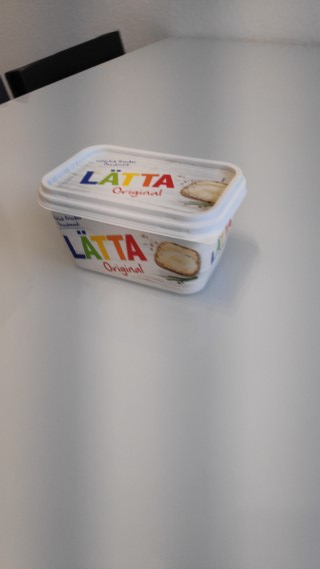laetta: (36, 143, 249, 297)
